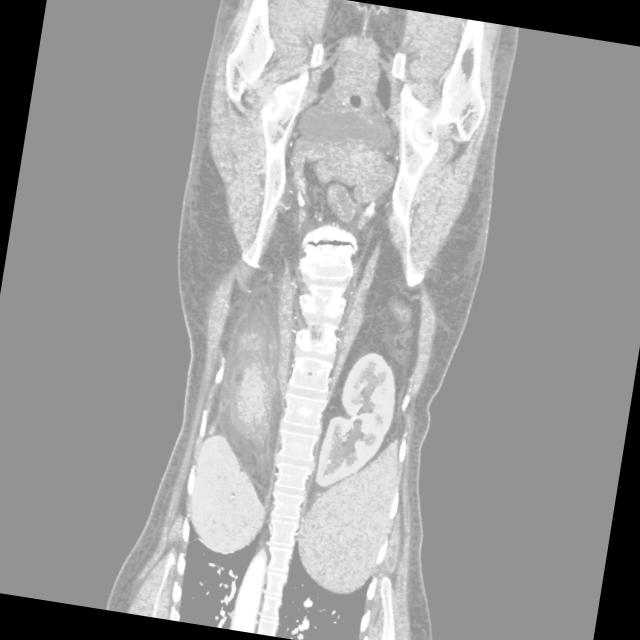TUMOR: (76, 217, 475, 483)
